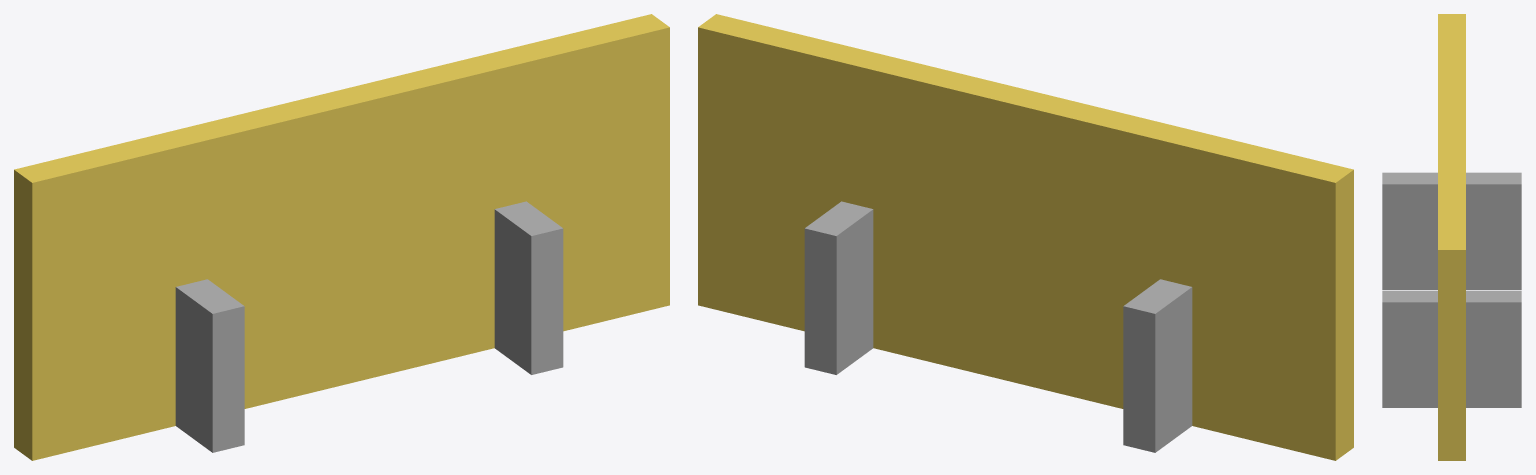
File: closure_gate.glb
3 renders of one model, left to right at view 1: azimuth 30°, elevation 25°; view 2: azimuth 150°, elevation 25°; view 3: azimuth 270°, elevation 25°, orthographic. The views are drawn at different scales.
Parts seen in each view (by area): view 1: gate, leg1, leg2; view 2: gate, leg1, leg2; view 3: leg1, leg2, gate.
Part boxes in pixels (x1,y1,x2,y2): gate: (14, 14, 669, 460); leg1: (175, 279, 244, 452); leg2: (494, 201, 563, 374); gate: (698, 14, 1353, 460); leg1: (1123, 279, 1192, 452); leg2: (804, 201, 873, 374); leg1: (1382, 172, 1521, 289); leg2: (1382, 290, 1521, 407); gate: (1438, 14, 1465, 460).
Bounding box in the file's own units: 2.4 × 1 × 0.6001.
